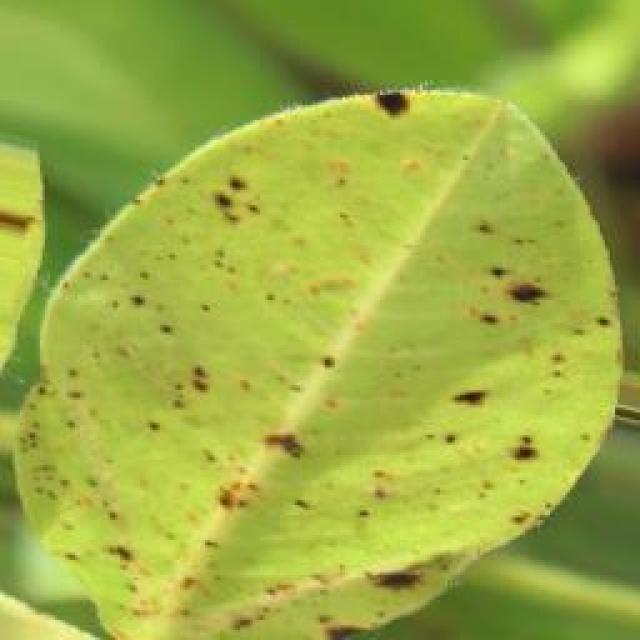Yellowish: (7, 73, 631, 627)
